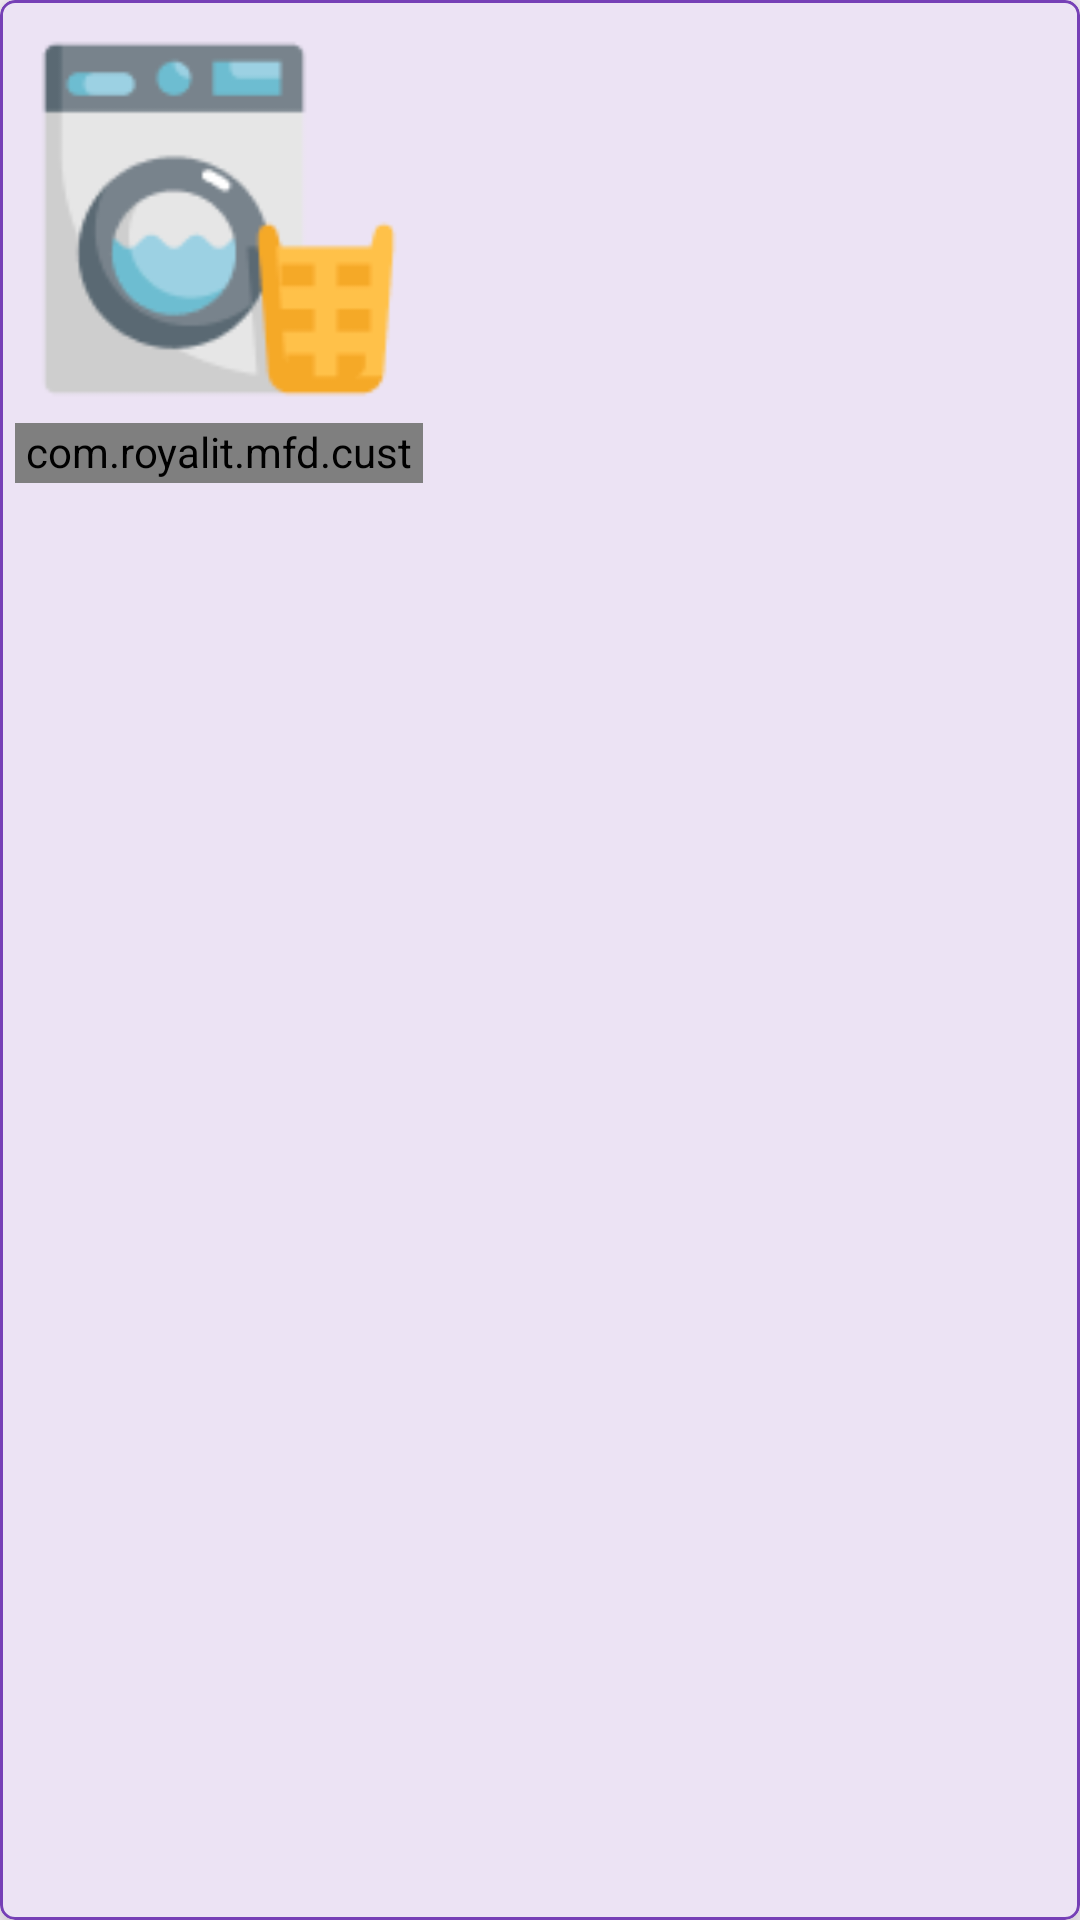

Where icons sit on this 1080 x 1920 app screen, as (x1, y1, x2, y2):
wash: (43, 43, 395, 396)
